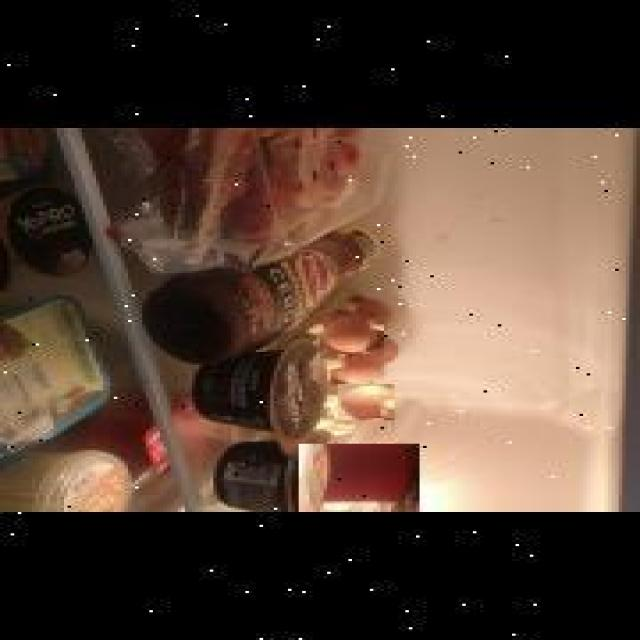egg: (320, 314, 380, 354), (325, 352, 386, 386), (334, 384, 391, 420)
yogurt: (295, 444, 416, 512), (0, 127, 85, 198)
